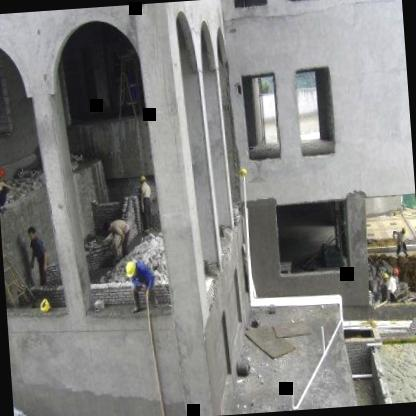head: (101, 216, 115, 236), (24, 225, 38, 243)
helmet: (123, 258, 140, 280), (0, 162, 9, 185), (390, 264, 400, 282), (138, 172, 149, 186), (380, 270, 389, 284)
